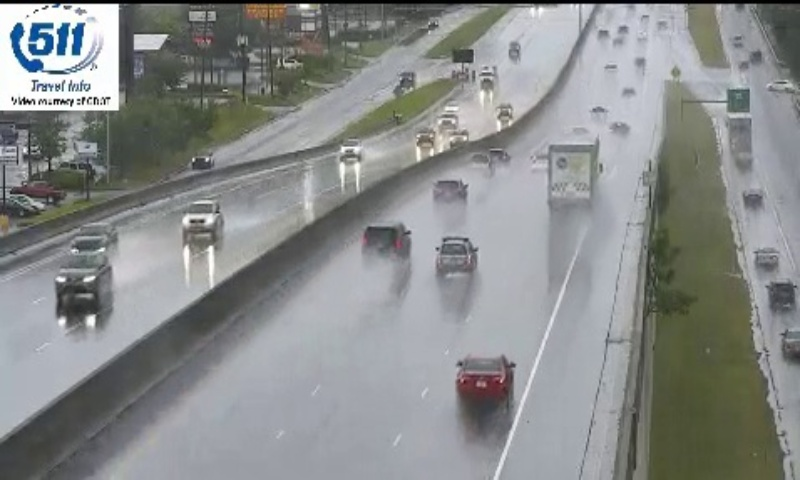car: (456, 354, 510, 403), (363, 222, 411, 262), (436, 240, 475, 274), (431, 179, 466, 209)
small-truck: (547, 135, 597, 205)
